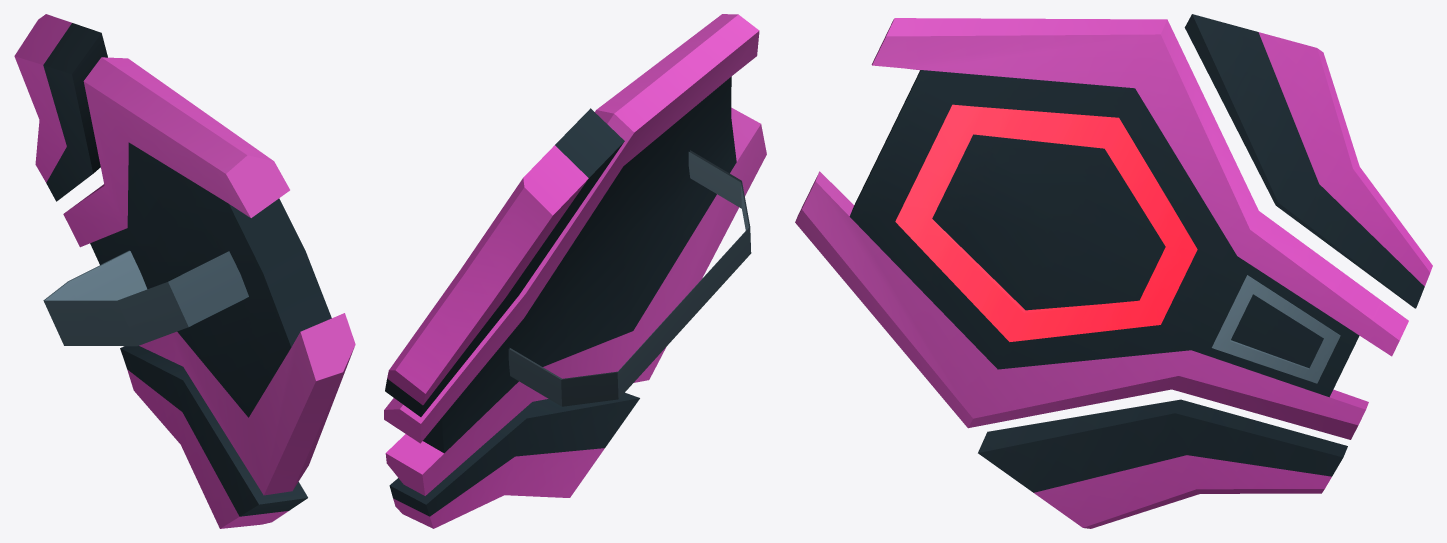
File: Level5Shield.fbx
3 views of the same model, side by side, from view 1: azimuth 30°, elevation 25°; view 2: azimuth 150°, elevation 25°; view 3: azimuth 270°, elevation 25° (orthographic). The views are drawn at different scales.
Visible parts, largest first — view 1: Shield_03_Pink; view 2: Shield_03_Pink; view 3: Shield_03_Pink.
Boxes of the visible parts, x1,y1,x2,y2 form: Shield_03_Pink: (14,14,355,528); Shield_03_Pink: (384,14,766,528); Shield_03_Pink: (795,14,1432,528).
Bounding box in the file's own units: 34.52 × 70.56 × 87.92.
Materials: 1 (1 with a texture image).
